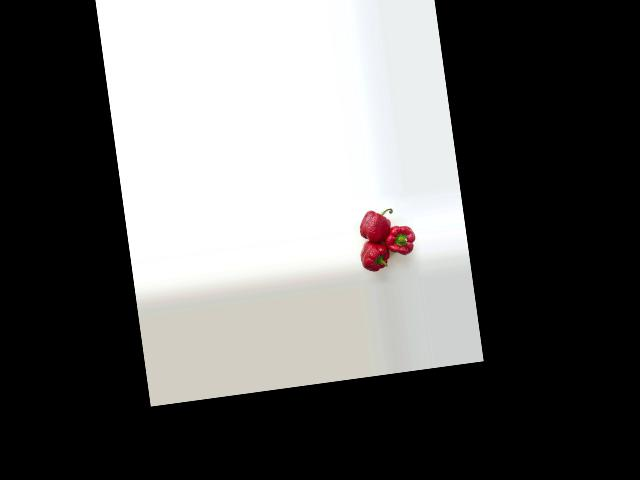bell_pepper: (354, 200, 397, 242)
